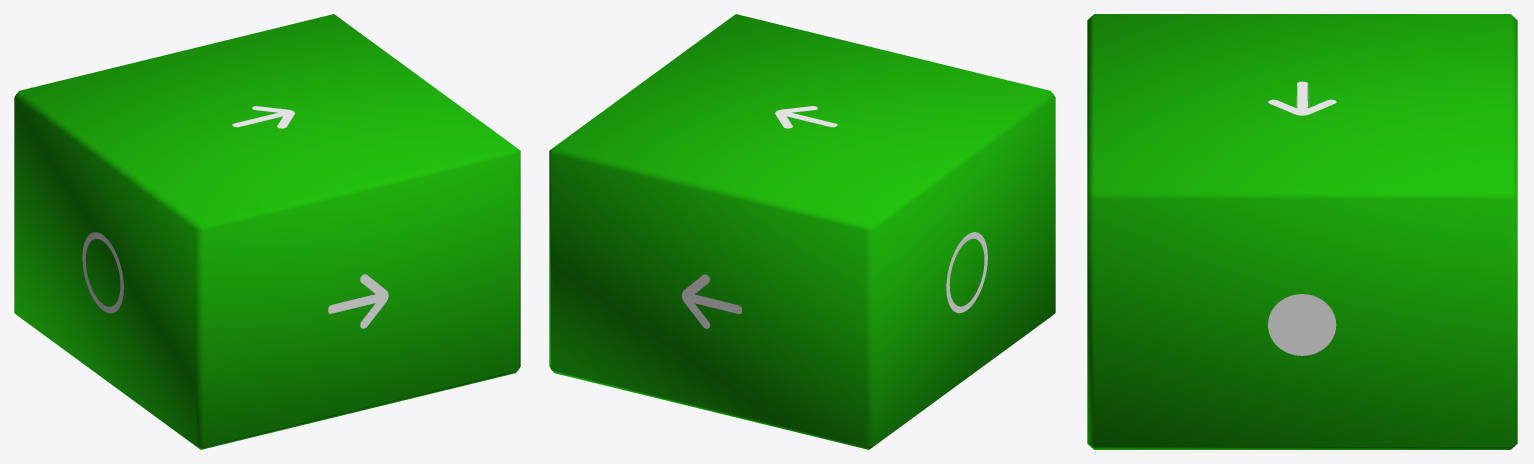
The model's file is BigBoxTapFlowBox_3_2_3_Clean_test2.fbx.
The picture shows the model from 3 angles, left to right: view 1: azimuth 30°, elevation 25°; view 2: azimuth 150°, elevation 25°; view 3: azimuth 270°, elevation 25°; orthographic projection. The views are drawn at different scales.
Visible parts, largest first — view 1: BigBoxTapFlowBox_3_2_3_Clean_test; view 2: BigBoxTapFlowBox_3_2_3_Clean_test; view 3: BigBoxTapFlowBox_3_2_3_Clean_test.
Boxes of the visible parts, x1=… form: BigBoxTapFlowBox_3_2_3_Clean_test: x1=14, y1=14, x2=520, y2=449; BigBoxTapFlowBox_3_2_3_Clean_test: x1=549, y1=14, x2=1055, y2=449; BigBoxTapFlowBox_3_2_3_Clean_test: x1=1087, y1=14, x2=1517, y2=449.
Size of the model in its own units: 3.18 by 2.13 by 3.18.
1 material, 1 textured.
